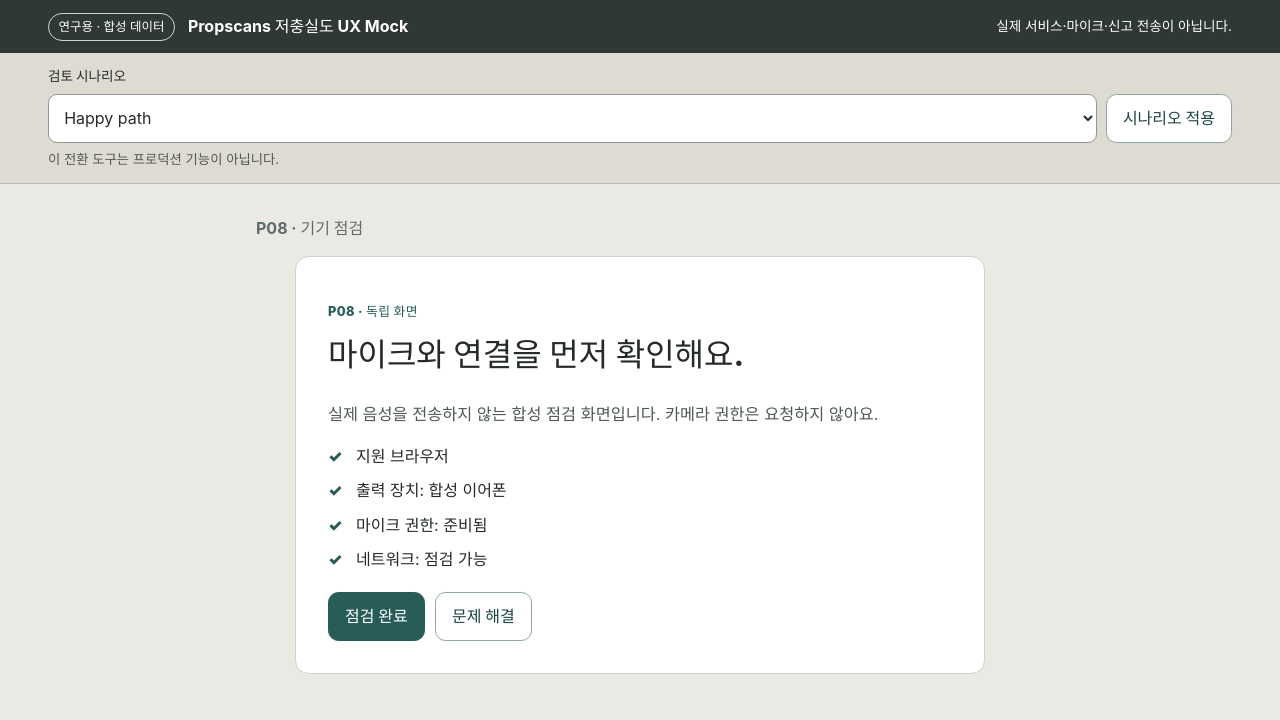
Test: Propscans UX mock › keeps P10 visible for protected live stages
Step 1. Select "초기 관심: 아무도 선택하지 않음" in the dropdown labelled "검토 시나리오" → x=573, y=118, box [48, 94, 1097, 143]
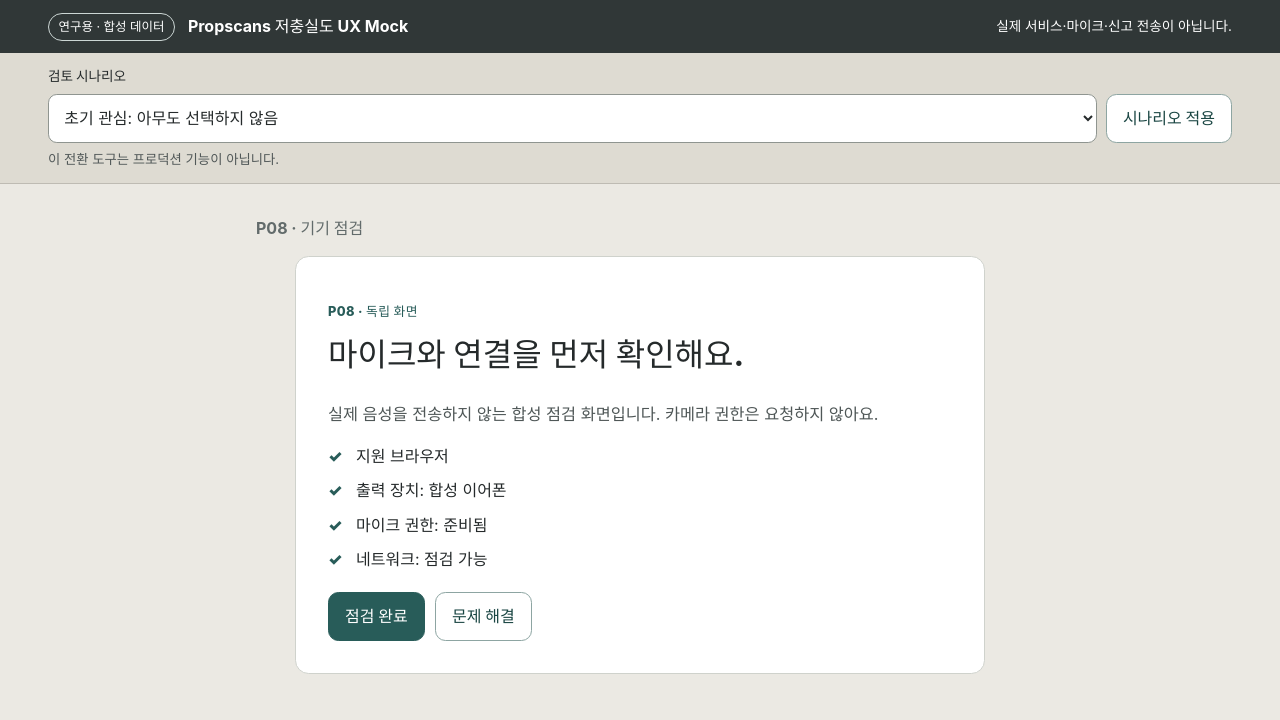
Step 2. Click the button "시나리오 적용" → x=1169, y=118, box [1106, 94, 1232, 143]
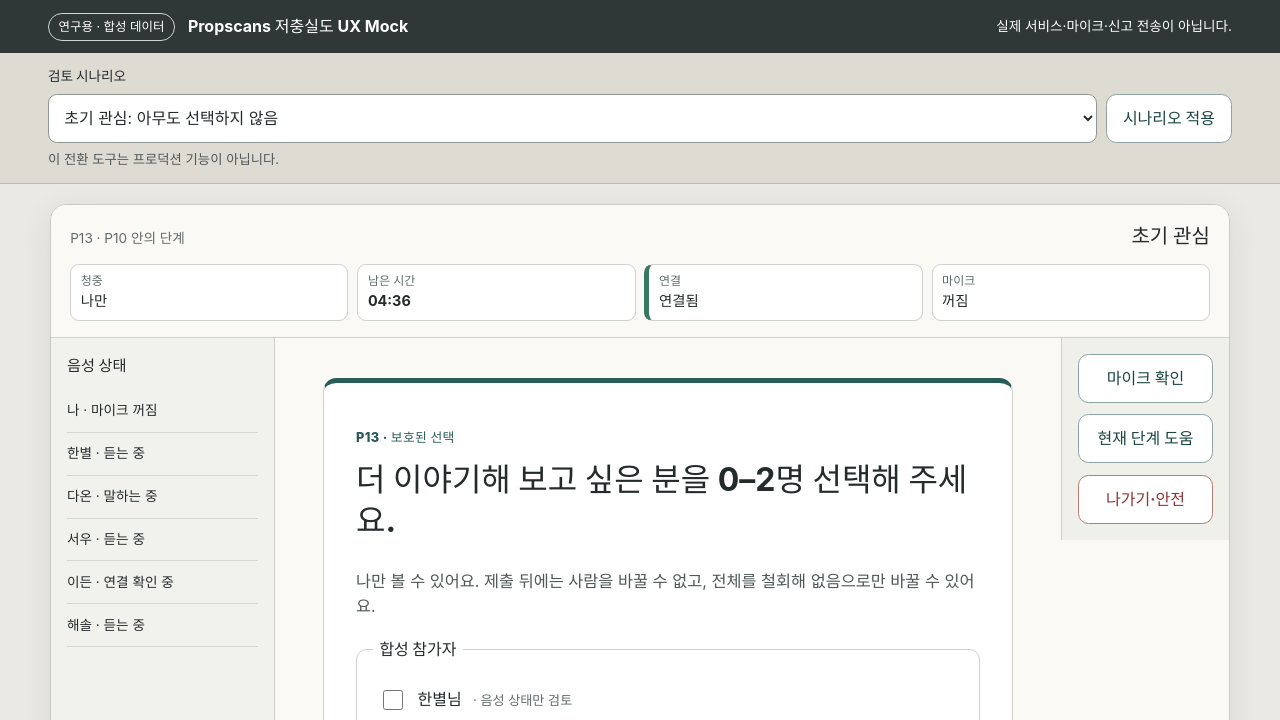
Now the text "P13 · 보호된 선택" is shown, box [356, 430, 455, 445]
Now the text "청중" is shown, box [81, 273, 103, 288]
